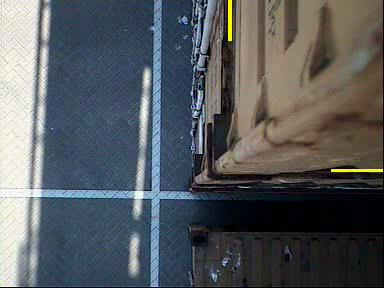groundmarker_2: (138, 54, 228, 105)
